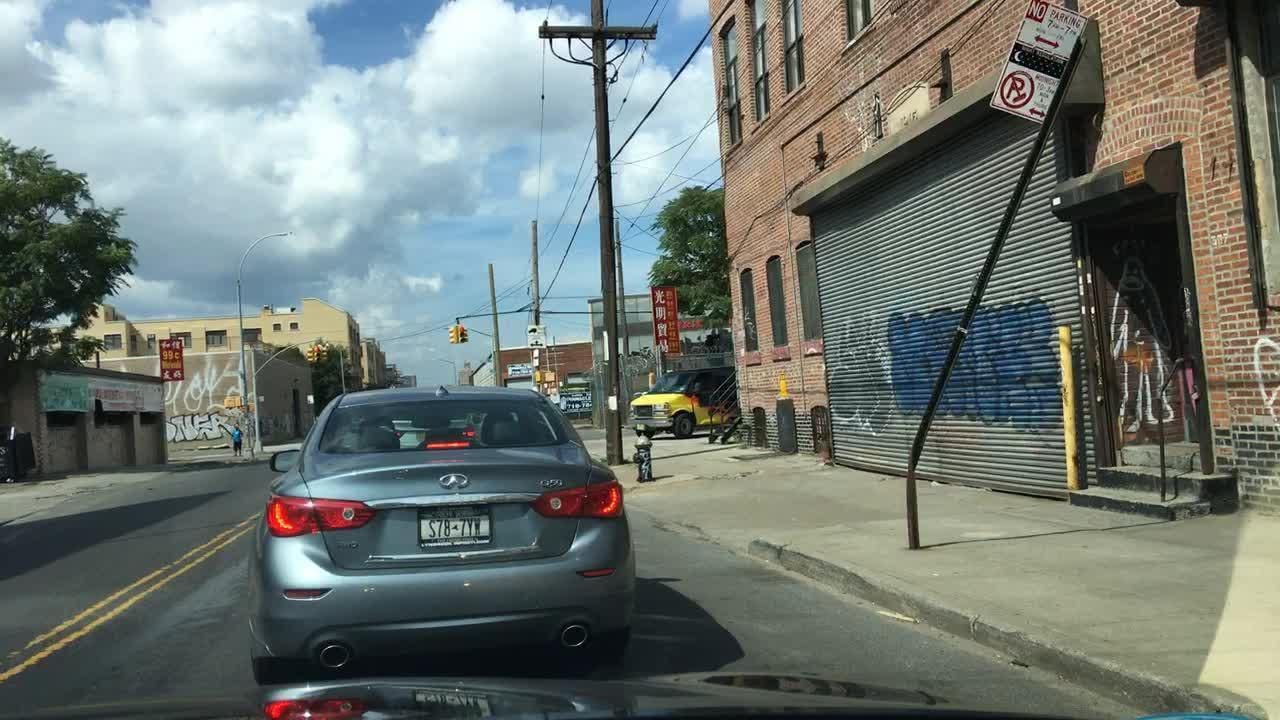Infiniti: (433, 469, 472, 495)
